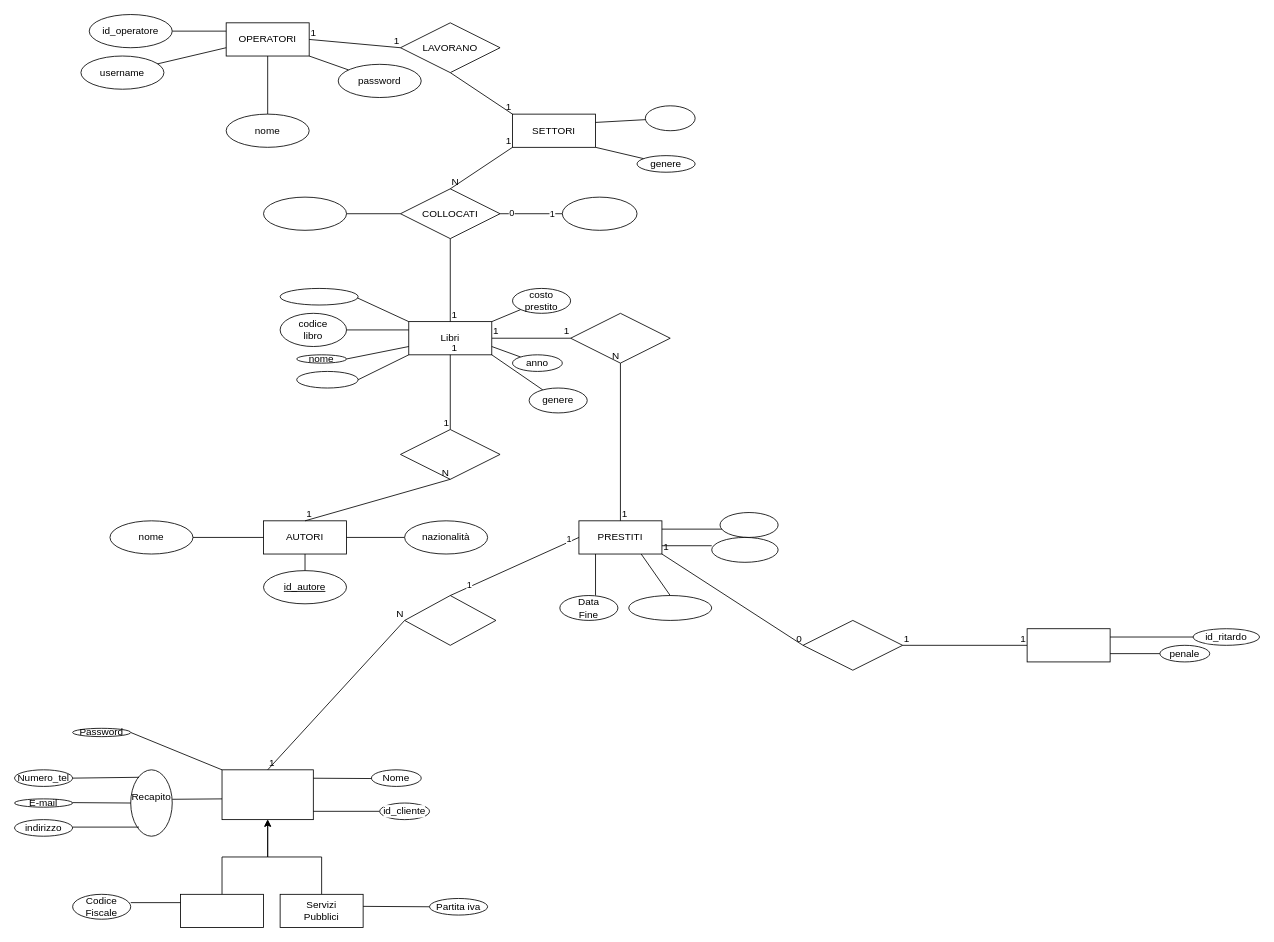
This 1274x942 diagram has some shape labels left out. The shapes that lost their labels are listed below. From the top down, each one's centre as x and y in pixels, then its label:
At point (669, 118): "id_settore".
At point (305, 213): "Posizione".
At point (599, 213): "disponibilità".
At point (318, 296): "copertina".
At point (620, 337): "CONTENGONO".
At point (327, 379): "edizione".
At point (450, 454): "Scrivono".
At point (748, 524): "id_prestito".
At point (744, 549): "Data Inzio".
At point (450, 620): "RICHIEDONO".
At point (670, 607): "Data Restituzione".
At point (852, 645): "Possono avere".
At point (1068, 645): "RITARDI".
At point (267, 794): "CLIENTE".
At point (222, 910): "Privati".
